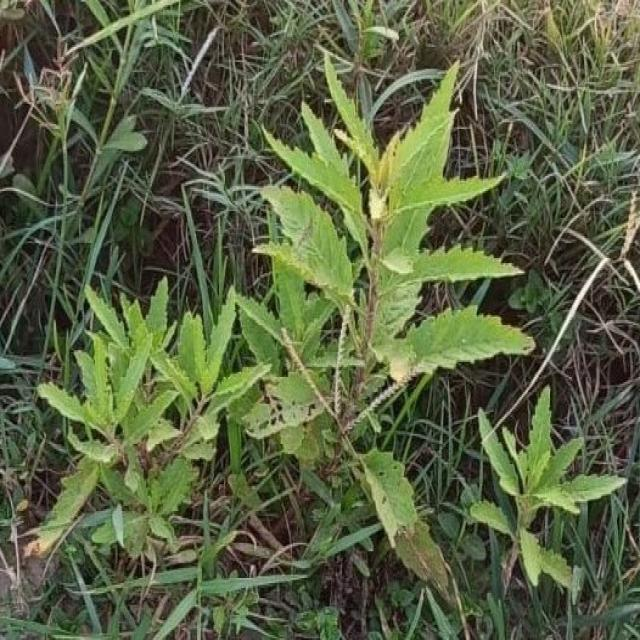weed: (29, 60, 535, 606), (479, 392, 625, 589)
